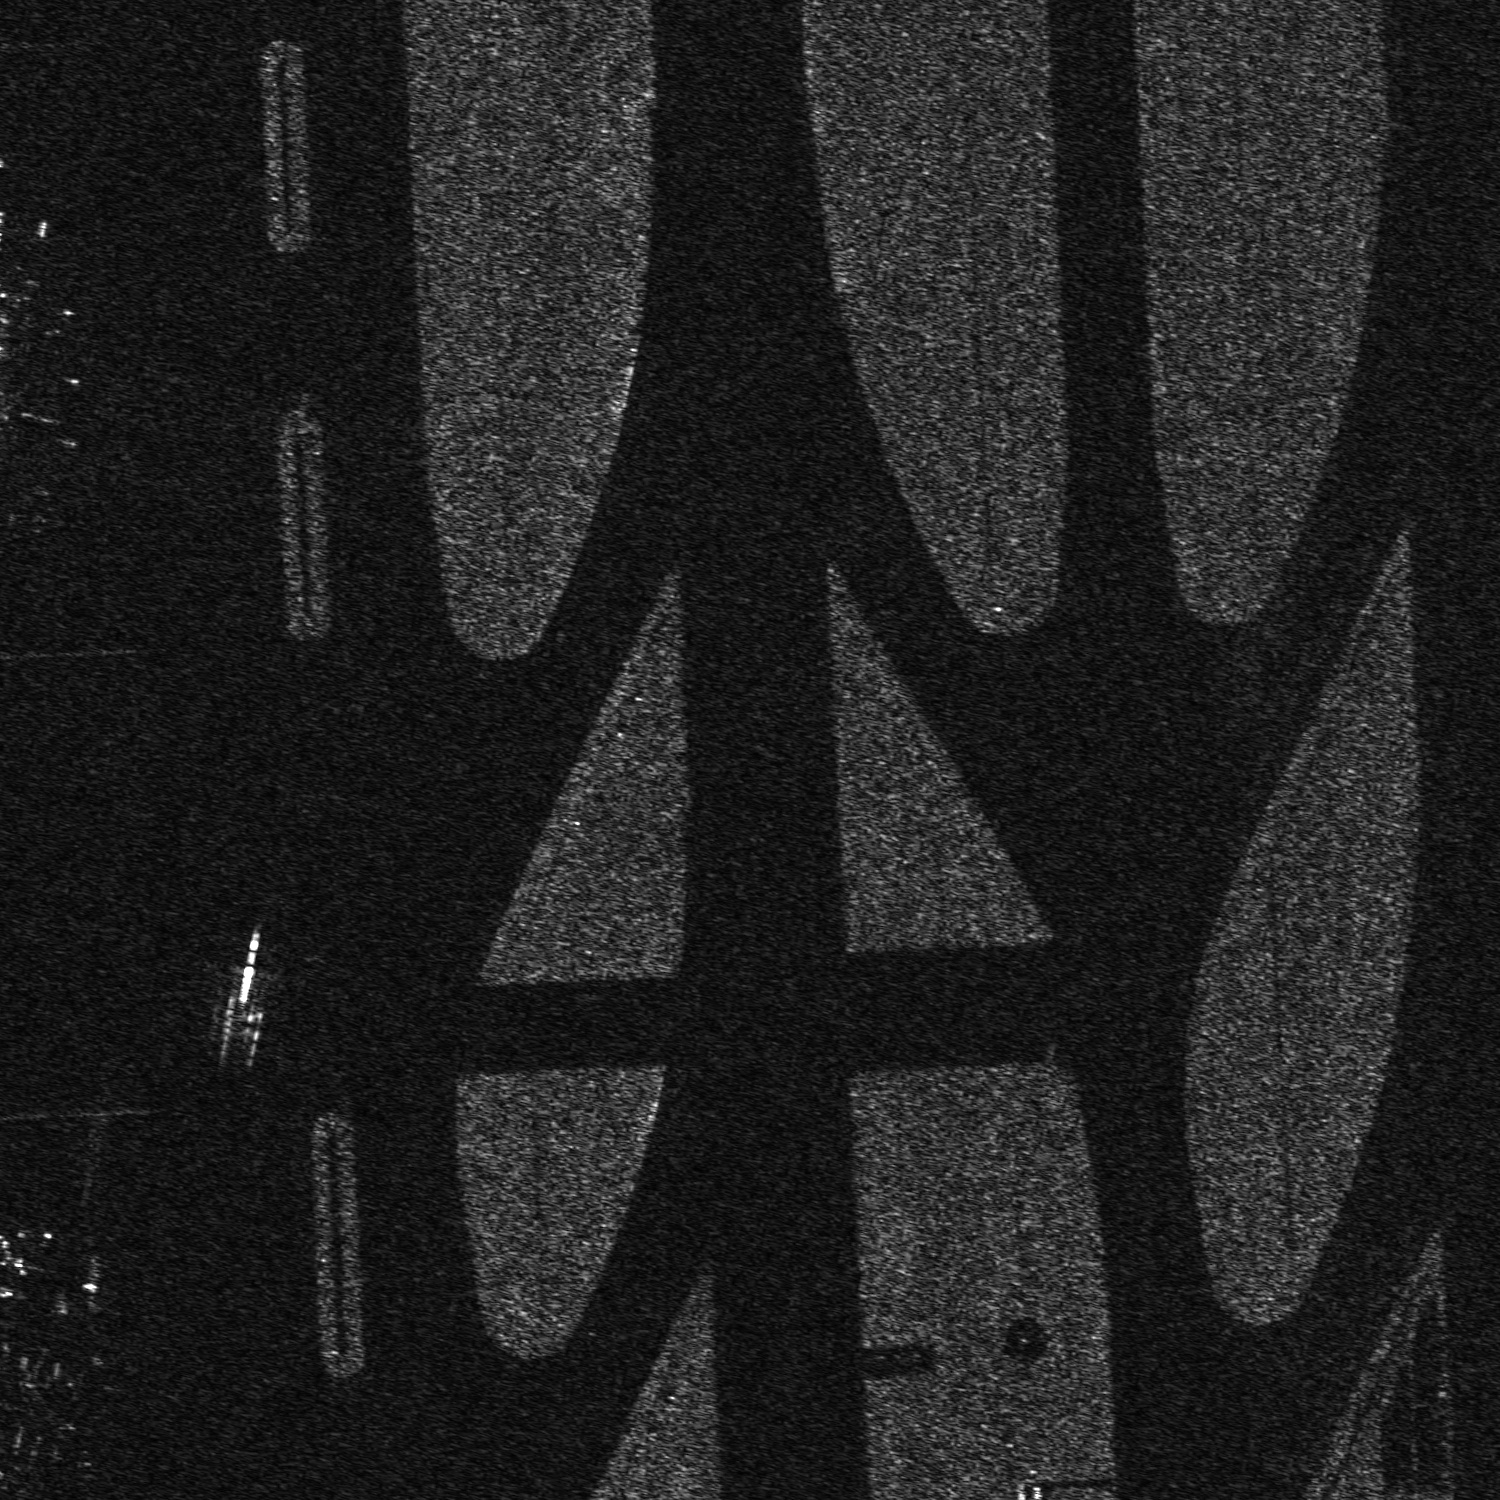A220: (12, 1341, 93, 1429)
